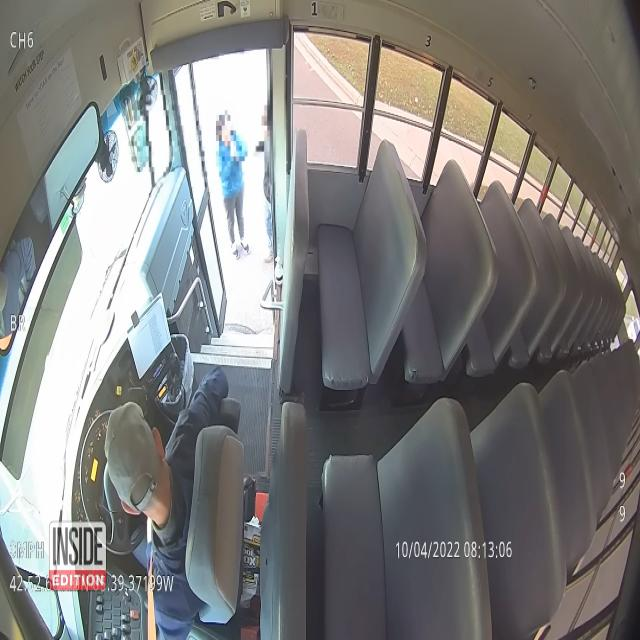bus-door: (170, 64, 226, 332)
